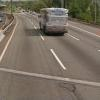Bus: (38, 3, 69, 35)
